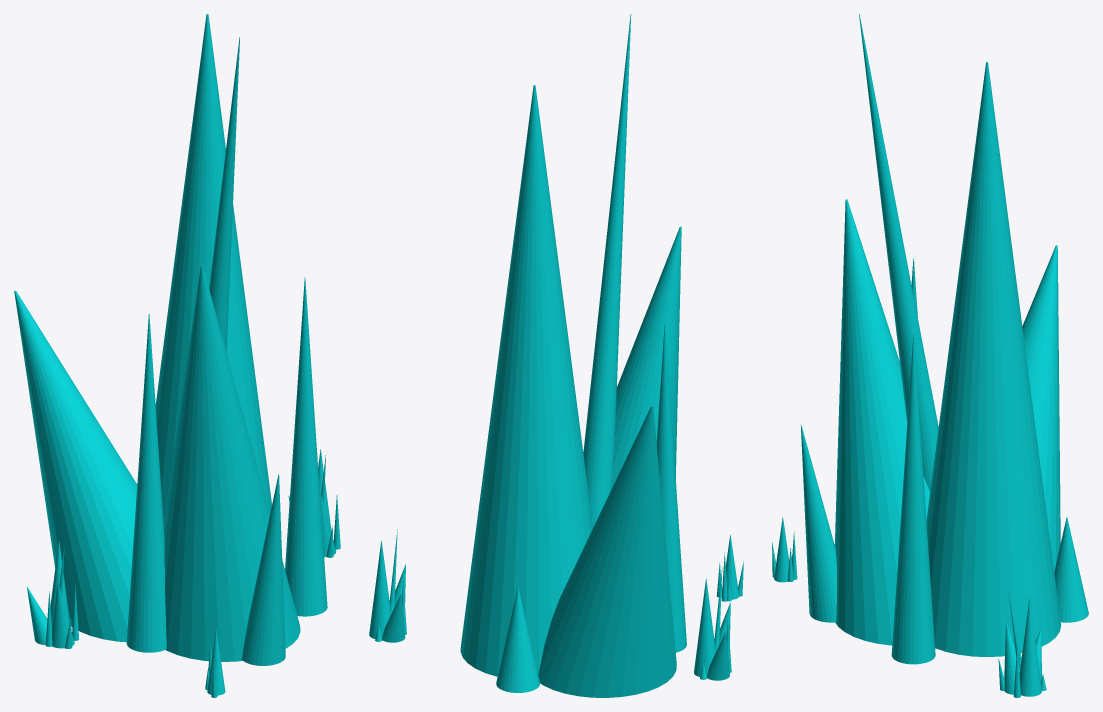
The model's file is sarkt.fbx.
3 views of the same model, side by side, from view 1: azimuth 30°, elevation 25°; view 2: azimuth 150°, elevation 25°; view 3: azimuth 270°, elevation 25° (orthographic). The views are drawn at different scales.
Visible parts, largest first — view 1: Cylinder.003, Cylinder.001, Cylinder.002, Cylinder.009; view 2: Cylinder.003, Cylinder.002, Cylinder.001, Cylinder.009; view 3: Cylinder.003, Cylinder.002, Cylinder.009.
Boxes of the visible parts, box(x1,y1,x2,y2) form: Cylinder.003: box(14, 14, 327, 665); Cylinder.001: box(27, 540, 78, 648); Cylinder.002: box(288, 449, 340, 557); Cylinder.009: box(205, 628, 225, 697); Cylinder.003: box(460, 14, 686, 697); Cylinder.002: box(369, 529, 406, 642); Cylinder.001: box(694, 568, 731, 680); Cylinder.009: box(716, 534, 743, 601); Cylinder.003: box(801, 14, 1088, 664); Cylinder.002: box(998, 590, 1046, 697); Cylinder.009: box(772, 517, 797, 582).
Bounding box in the file's own units: 511 × 889 × 427.
